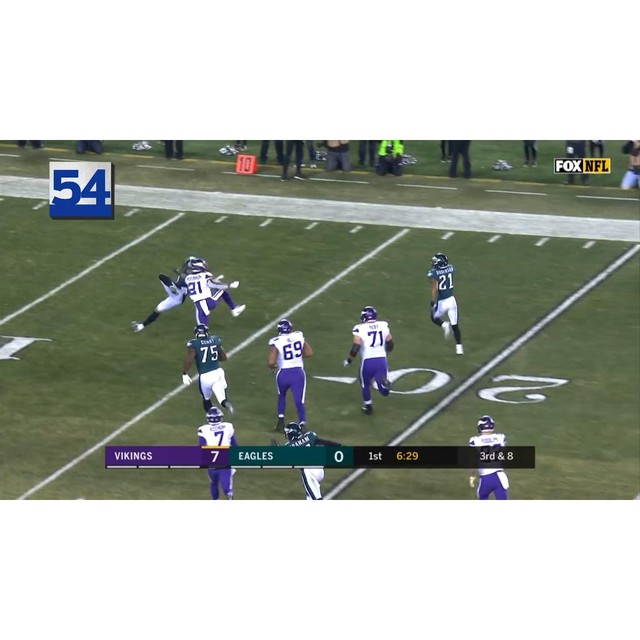american-football-player: (341, 307, 394, 416), (265, 317, 314, 434), (180, 323, 236, 424), (425, 253, 468, 357), (132, 263, 191, 334), (197, 404, 238, 498), (467, 415, 511, 500), (282, 420, 326, 498)
